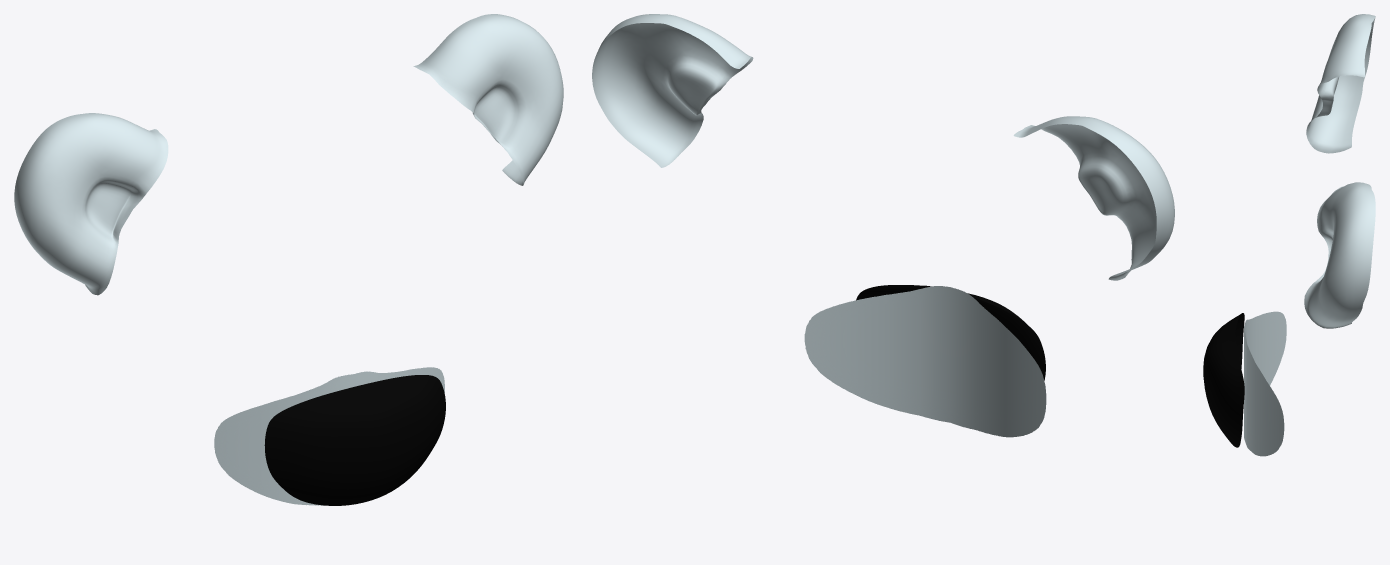
The model's file is Tucha_Mask_New.fbx.
3 views of the same model, side by side, from view 1: azimuth 30°, elevation 25°; view 2: azimuth 150°, elevation 25°; view 3: azimuth 270°, elevation 25° (orthographic). The views are drawn at different scales.
Parts seen in each view (by area): view 1: m_Tucha; view 2: m_Tucha; view 3: m_Tucha.
Boxes of the visible parts, x1,y1,x2,y2 form: m_Tucha: (14,14,563,505); m_Tucha: (592,14,1174,437); m_Tucha: (1203,14,1375,456).
Bounding box in the file's own units: 35.3 × 26.51 × 11.31.
